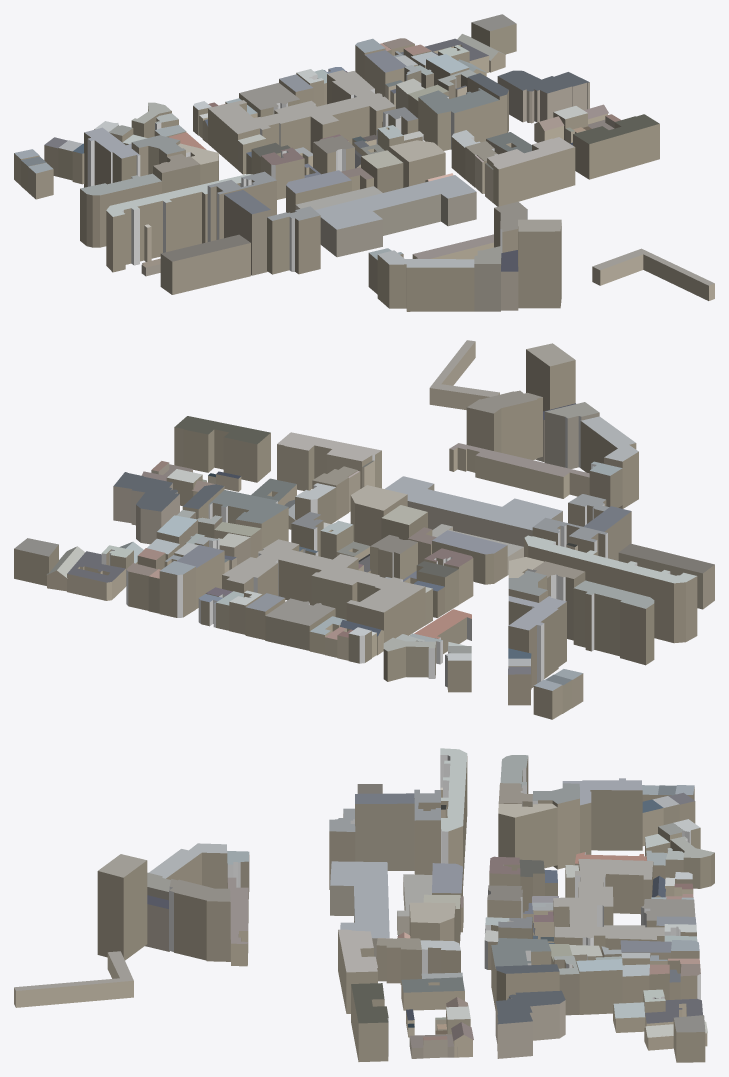
The picture shows the model from 3 angles, top to bottom: view 1: azimuth 30°, elevation 25°; view 2: azimuth 150°, elevation 25°; view 3: azimuth 270°, elevation 25°; orthographic projection. The views are drawn at different scales.
Parts seen in each view (by area): view 1: tuile; view 2: tuile; view 3: tuile.
Part boxes in pixels (x1,y1,x2,y2): tuile: (14, 14, 714, 311); tuile: (14, 340, 714, 719); tuile: (14, 748, 714, 1062).
Bounding box in the file's own units: 261 × 41.51 × 284.
